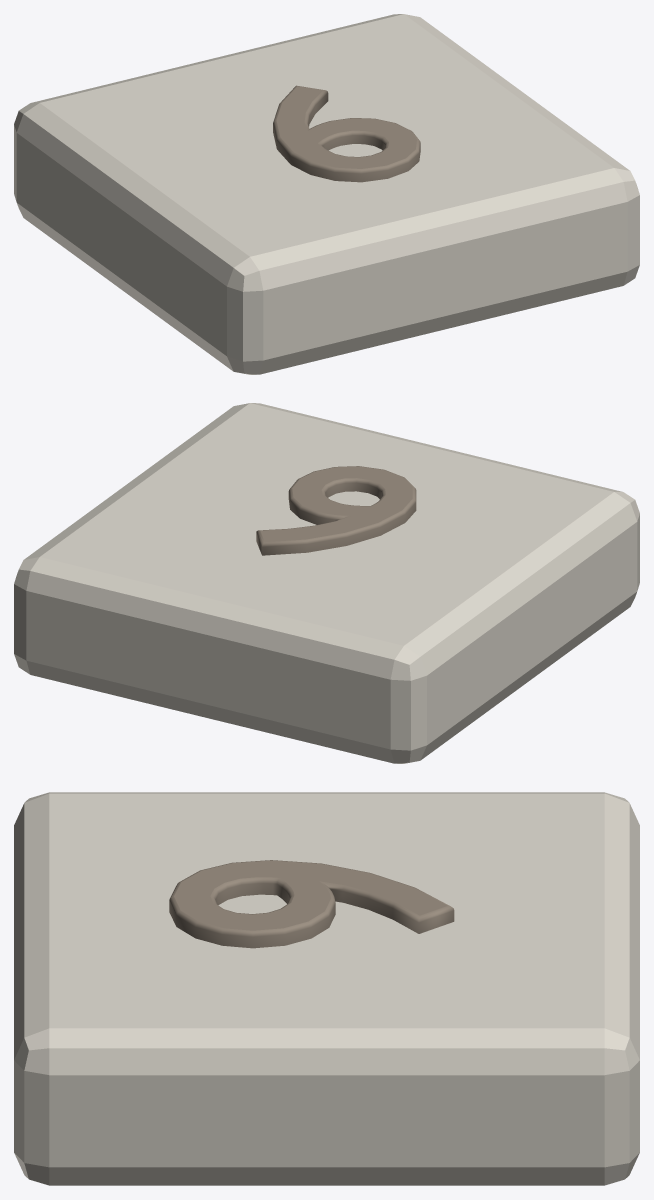
File: Tile_9.fbx
The picture shows the model from 3 angles, top to bottom: view 1: azimuth 30°, elevation 25°; view 2: azimuth 150°, elevation 25°; view 3: azimuth 270°, elevation 25°; orthographic projection. The views are drawn at different scales.
Parts seen in each view (by area): view 1: Tile_9; view 2: Tile_9; view 3: Tile_9.
Boxes of the visible parts, bbox=[...] form: Tile_9: bbox=[14, 14, 639, 374]; Tile_9: bbox=[14, 403, 639, 763]; Tile_9: bbox=[14, 792, 639, 1185].
Size of the model in its own units: 80 by 24.2 by 80.
